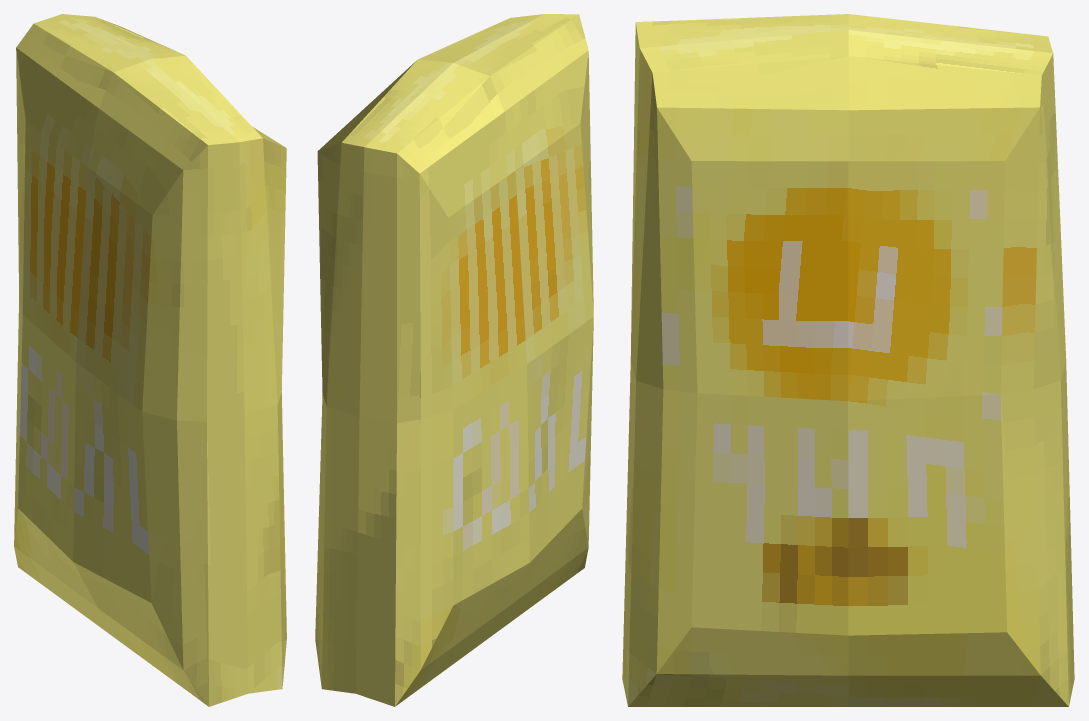
Rendered from ЧИПСЫ.fbx.
3 views of the same model, side by side, from view 1: azimuth 30°, elevation 25°; view 2: azimuth 150°, elevation 25°; view 3: azimuth 270°, elevation 25° (orthographic). The views are drawn at different scales.
Parts seen in each view (by area): view 1: Cube; view 2: Cube; view 3: Cube.
Part boxes in pixels (x1=…): Cube: x1=14, y1=14, x2=286, y2=706; Cube: x1=315, y1=14, x2=593, y2=706; Cube: x1=622, y1=14, x2=1074, y2=706.
Size of the model in its own units: 91.52 by 329 by 205.
1 material, 1 textured.
